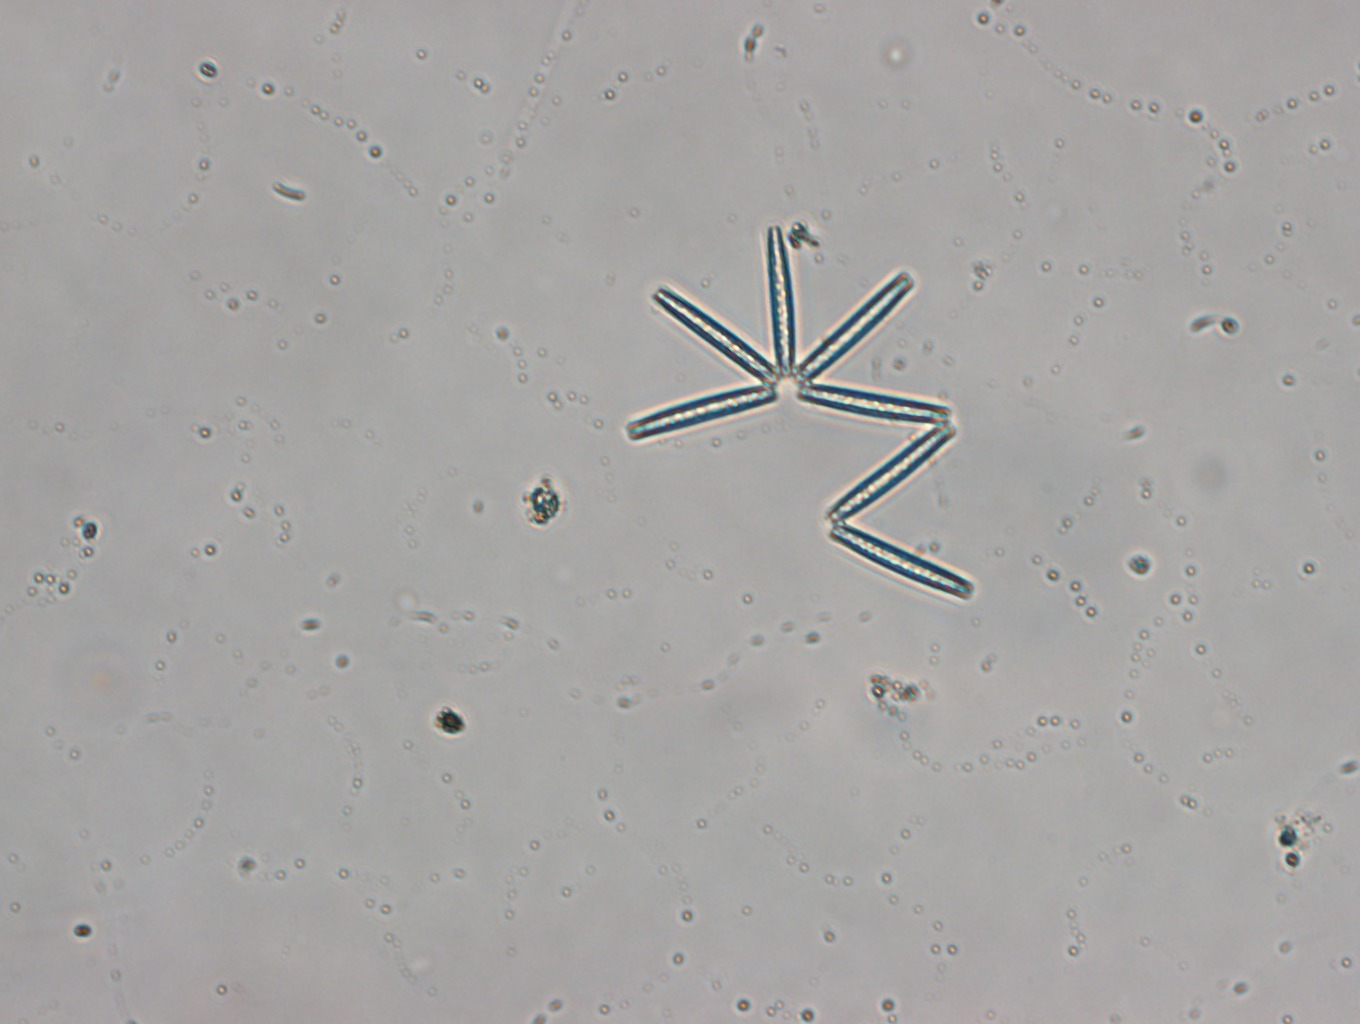thalassionema nitzschioides: (624, 224, 974, 603)
